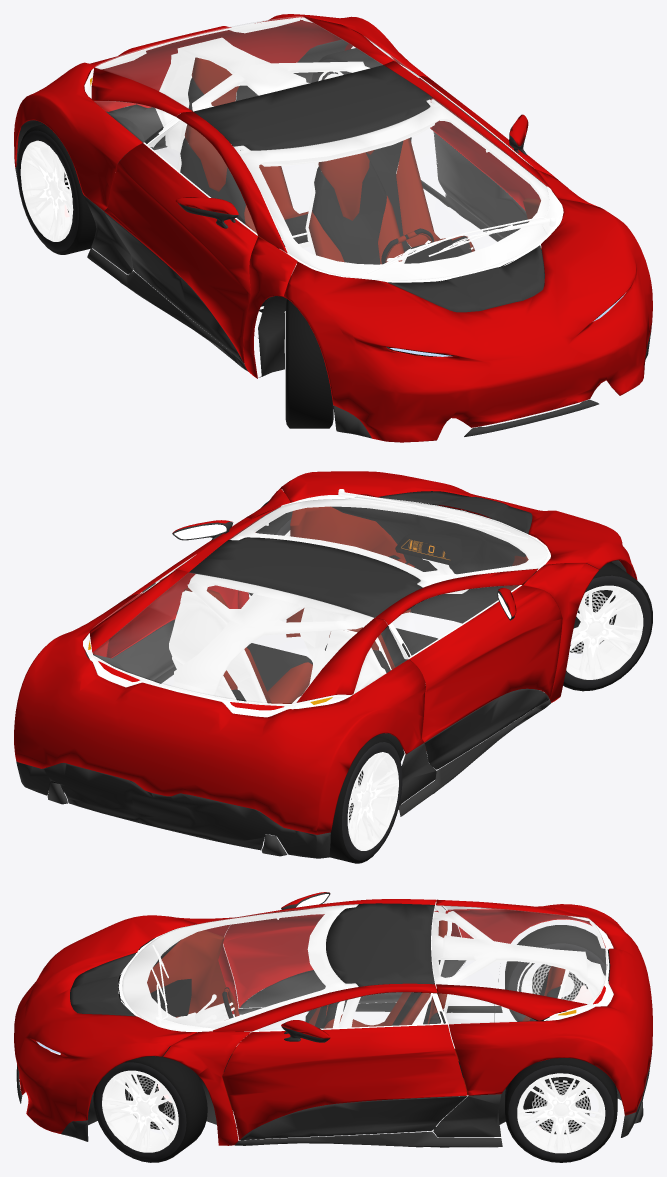
The model's file is car_lite.glb.
3 views of the same model, one above another, from view 1: azimuth 30°, elevation 25°; view 2: azimuth 150°, elevation 25°; view 3: azimuth 270°, elevation 25° (orthographic). The views are drawn at different scales.
Parts seen in each view (by area): view 1: BodyHood, BodyWindshield, BodyRearPanelsColor1, BodyRearwindow, BodyDoorRColor1, BodyRoofPanel, BodyWindshieldGasket, InteriorSeatsColor1, InteriorSeatsColor2, BodyPillars, BodyPanelsColor2, InteriorPillar (+15 smaller); view 2: BodyRearPanelsColor1, BodyRearwindow, BodyWindshield, BodyPanelsColor2, BodyDoorRColor1, BodyRoofPanel, InteriorPillar, BodyHood, BodyPillars, InteriorDashMid, BodyWindshieldGasket, InteriorSeatsFrame1 (+17 smaller); view 3: BodyRearPanelsColor1, BodyWindshield, BodyDoorLColor1, BodyHood, BodyRearwindow, BodyRoofPanel, BodyPillars, BodyPanelsColor2, BodyWindshieldGasket, BodyDoorLColor2, BodyDoorRColor1, InteriorPillar (+24 smaller).
Part boxes in pixels (bbox=[...]): BodyHood: bbox=[283, 198, 652, 442]; BodyWindshield: bbox=[234, 98, 548, 280]; BodyRearPanelsColor1: bbox=[14, 14, 435, 210]; BodyRearwindow: bbox=[95, 16, 382, 110]; BodyDoorRColor1: bbox=[104, 143, 257, 363]; BodyRoofPanel: bbox=[193, 65, 432, 150]; BodyWindshieldGasket: bbox=[234, 99, 563, 282]; InteriorSeatsColor1: bbox=[184, 57, 474, 279]; InteriorSeatsColor2: bbox=[180, 77, 471, 312]; BodyPillars: bbox=[176, 61, 599, 378]; BodyPanelsColor2: bbox=[15, 93, 651, 438]; InteriorPillar: bbox=[155, 37, 434, 168]; BodyRearPanelsColor1: bbox=[14, 569, 425, 834]; BodyRearwindow: bbox=[92, 573, 373, 703]; BodyWindshield: bbox=[229, 497, 547, 586]; BodyPanelsColor2: bbox=[16, 666, 550, 858]; BodyDoorRColor1: bbox=[409, 585, 562, 742]; BodyRoofPanel: bbox=[189, 537, 422, 617]; InteriorPillar: bbox=[171, 574, 417, 701]; BodyHood: bbox=[278, 471, 637, 579]; BodyPillars: bbox=[175, 489, 598, 702]; InteriorDashMid: bbox=[331, 502, 528, 623]; BodyWindshieldGasket: bbox=[230, 496, 550, 587]; InteriorSeatsFrame1: bbox=[169, 591, 384, 712]; BodyRearPanelsColor1: bbox=[436, 899, 652, 1115]; BodyWindshield: bbox=[122, 904, 357, 1028]; BodyDoorLColor1: bbox=[222, 1024, 467, 1139]; BodyHood: bbox=[14, 915, 196, 1133]; BodyRearwindow: bbox=[432, 905, 606, 1003]; BodyRoofPanel: bbox=[326, 903, 434, 986]; BodyPillars: bbox=[163, 899, 437, 1145]; BodyPanelsColor2: bbox=[16, 962, 651, 1147]; BodyWindshieldGasket: bbox=[118, 905, 357, 1032]; BodyDoorLColor2: bbox=[240, 1096, 467, 1140]; BodyDoorRColor1: bbox=[223, 909, 460, 1007]; InteriorPillar: bbox=[321, 911, 613, 1027].
Size of the model in its own units: 2.54 by 1.15 by 4.36.
Materials: 20 (2 with a texture image).
